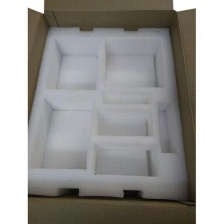foam_box: (28, 21, 191, 204)
